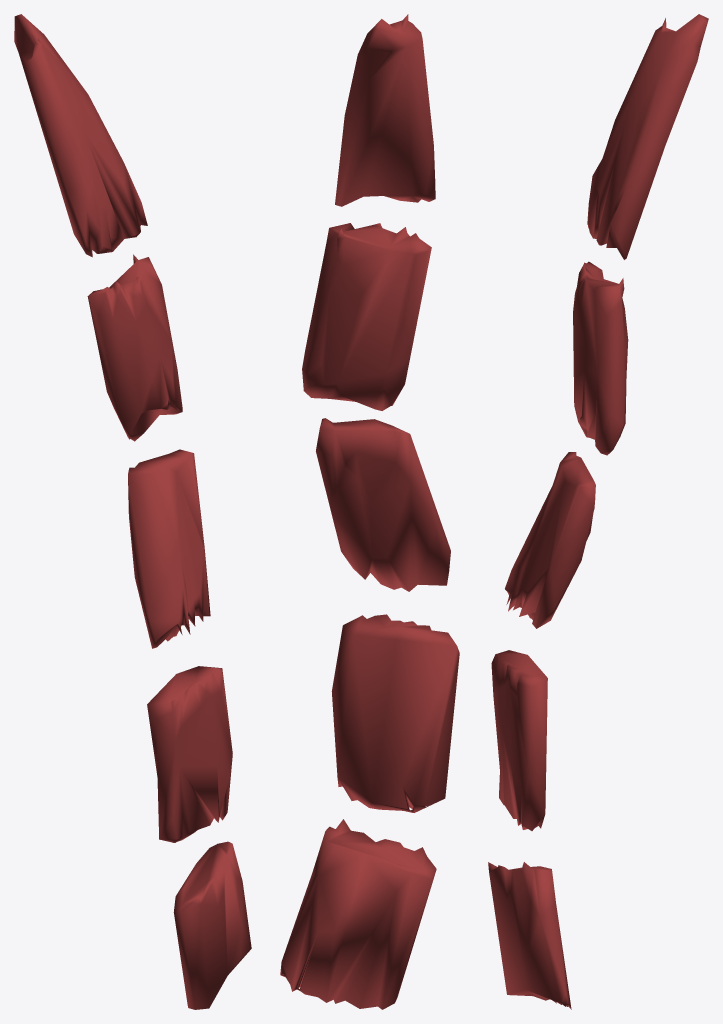
File: dorsal-parts-of-lateral-intertransversarii-lumborum-muscles-l.glb
3 views of the same model, side by side, from view 1: azimuth 30°, elevation 25°; view 2: azimuth 150°, elevation 25°; view 3: azimuth 270°, elevation 25° (orthographic). The views are drawn at different scales.
Visible parts, largest first — view 1: Dorsal parts of lateral intertransversarii lumborum muscles.; view 2: Dorsal parts of lateral intertransversarii lumborum muscles.; view 3: Dorsal parts of lateral intertransversarii lumborum muscles..
Boxes of the visible parts, x1=… form: Dorsal parts of lateral intertransversarii lumborum muscles.: x1=14, y1=14, x2=251, y2=1009; Dorsal parts of lateral intertransversarii lumborum muscles.: x1=280, y1=14, x2=459, y2=1009; Dorsal parts of lateral intertransversarii lumborum muscles.: x1=488, y1=14, x2=708, y2=1009.
Bounding box in the file's own units: 0.0286 × 0.1502 × 0.0319.
